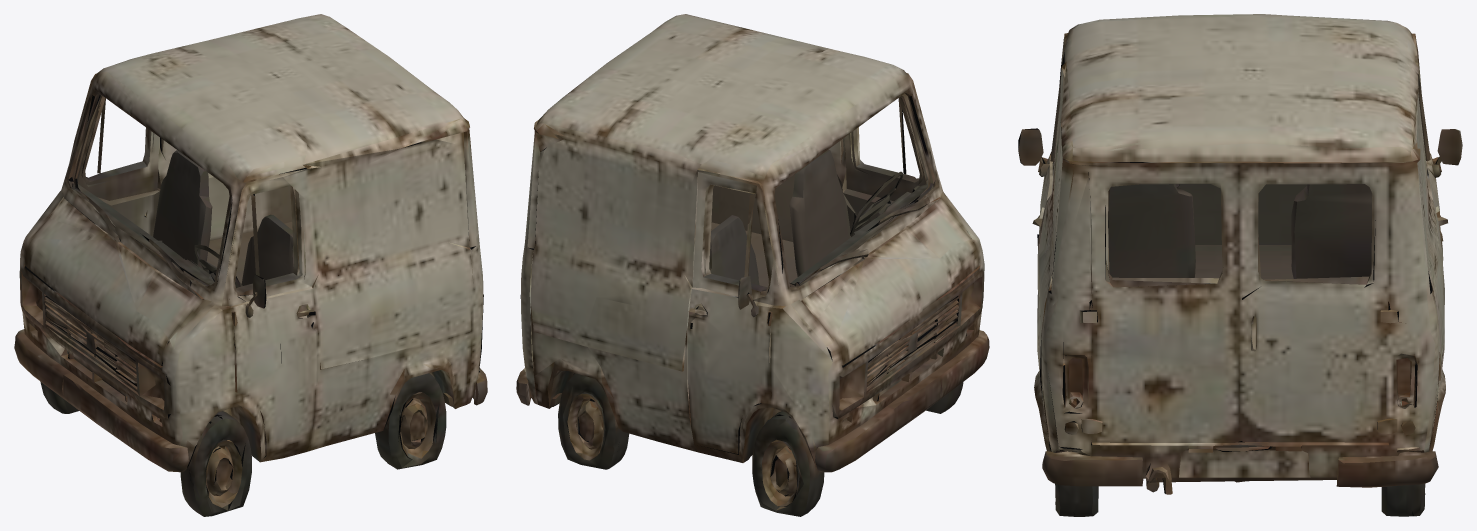
Rendered from wreck_van.glb.
3 renders of one model, left to right at view 1: azimuth 30°, elevation 25°; view 2: azimuth 150°, elevation 25°; view 3: azimuth 270°, elevation 25°, orthographic. The views are drawn at different scales.
Parts seen in each view (by area): view 1: wreck_van; view 2: wreck_van; view 3: wreck_van.
Part boxes in pixels (x1,y1,x2,y2): wreck_van: (14, 14, 487, 516); wreck_van: (516, 14, 989, 516); wreck_van: (1018, 14, 1462, 516).
Size of the model in its own units: 1 by 0.9999 by 1.
Materials: 1 (1 with a texture image).
